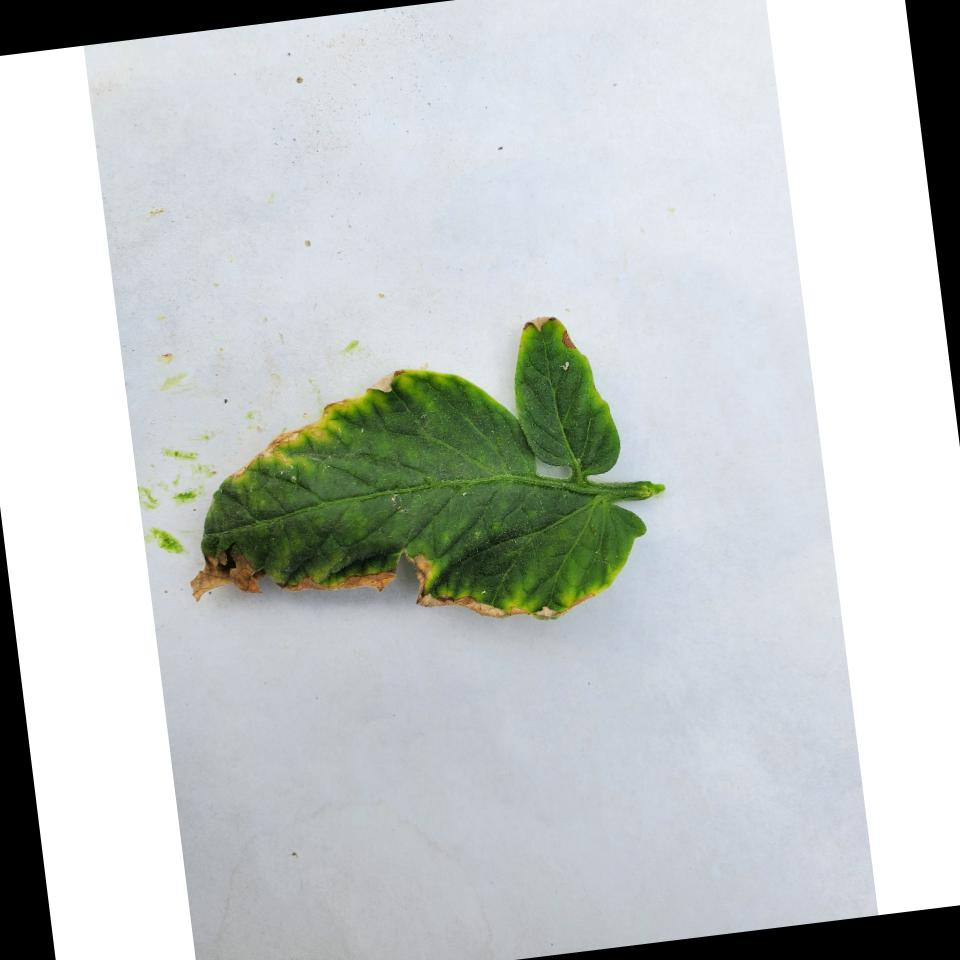tomato_bacterial_blight: (218, 352, 651, 638)
